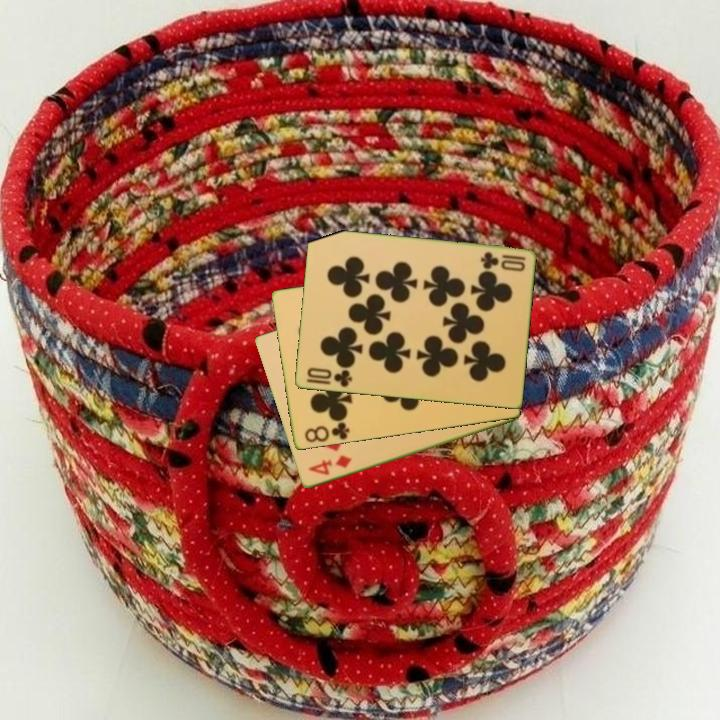10c: (303, 364, 355, 390), (476, 248, 528, 274)
4d: (305, 451, 354, 479)
8c: (301, 417, 352, 446)
